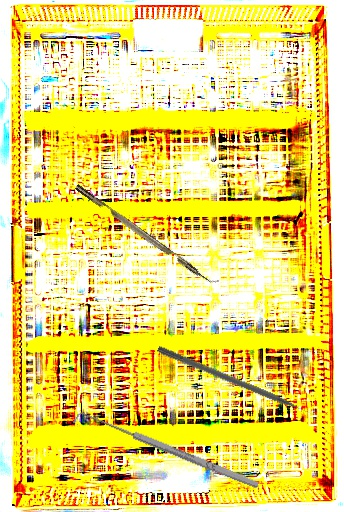Chopper: (74, 177, 222, 290)
Hook Surgical: (72, 406, 261, 497)
Pusher: (156, 345, 320, 422)
